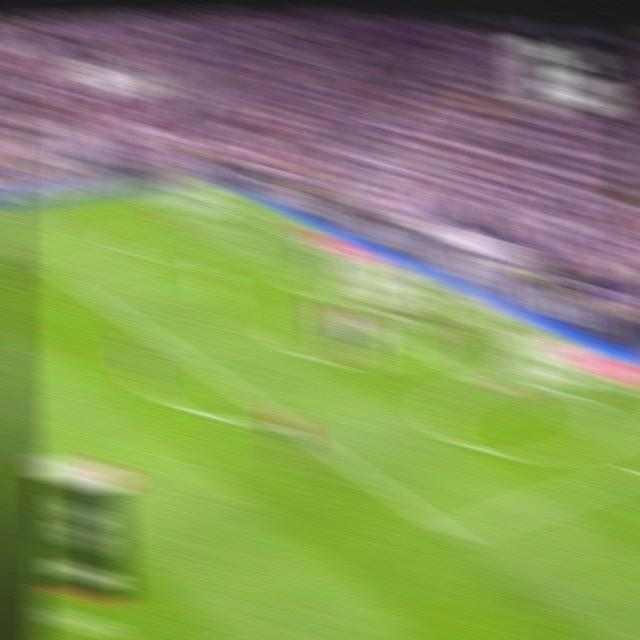bigarea_bottom_inner: (435, 516, 469, 552)
bigarea_top_inner: (46, 261, 76, 287)
bigarea_top_outter: (263, 218, 291, 238)
smallarea_bottom_outter: (403, 338, 433, 362)
smallarea_top_inner: (285, 278, 314, 298)
top_arc_area_intersection: (139, 322, 169, 346)
